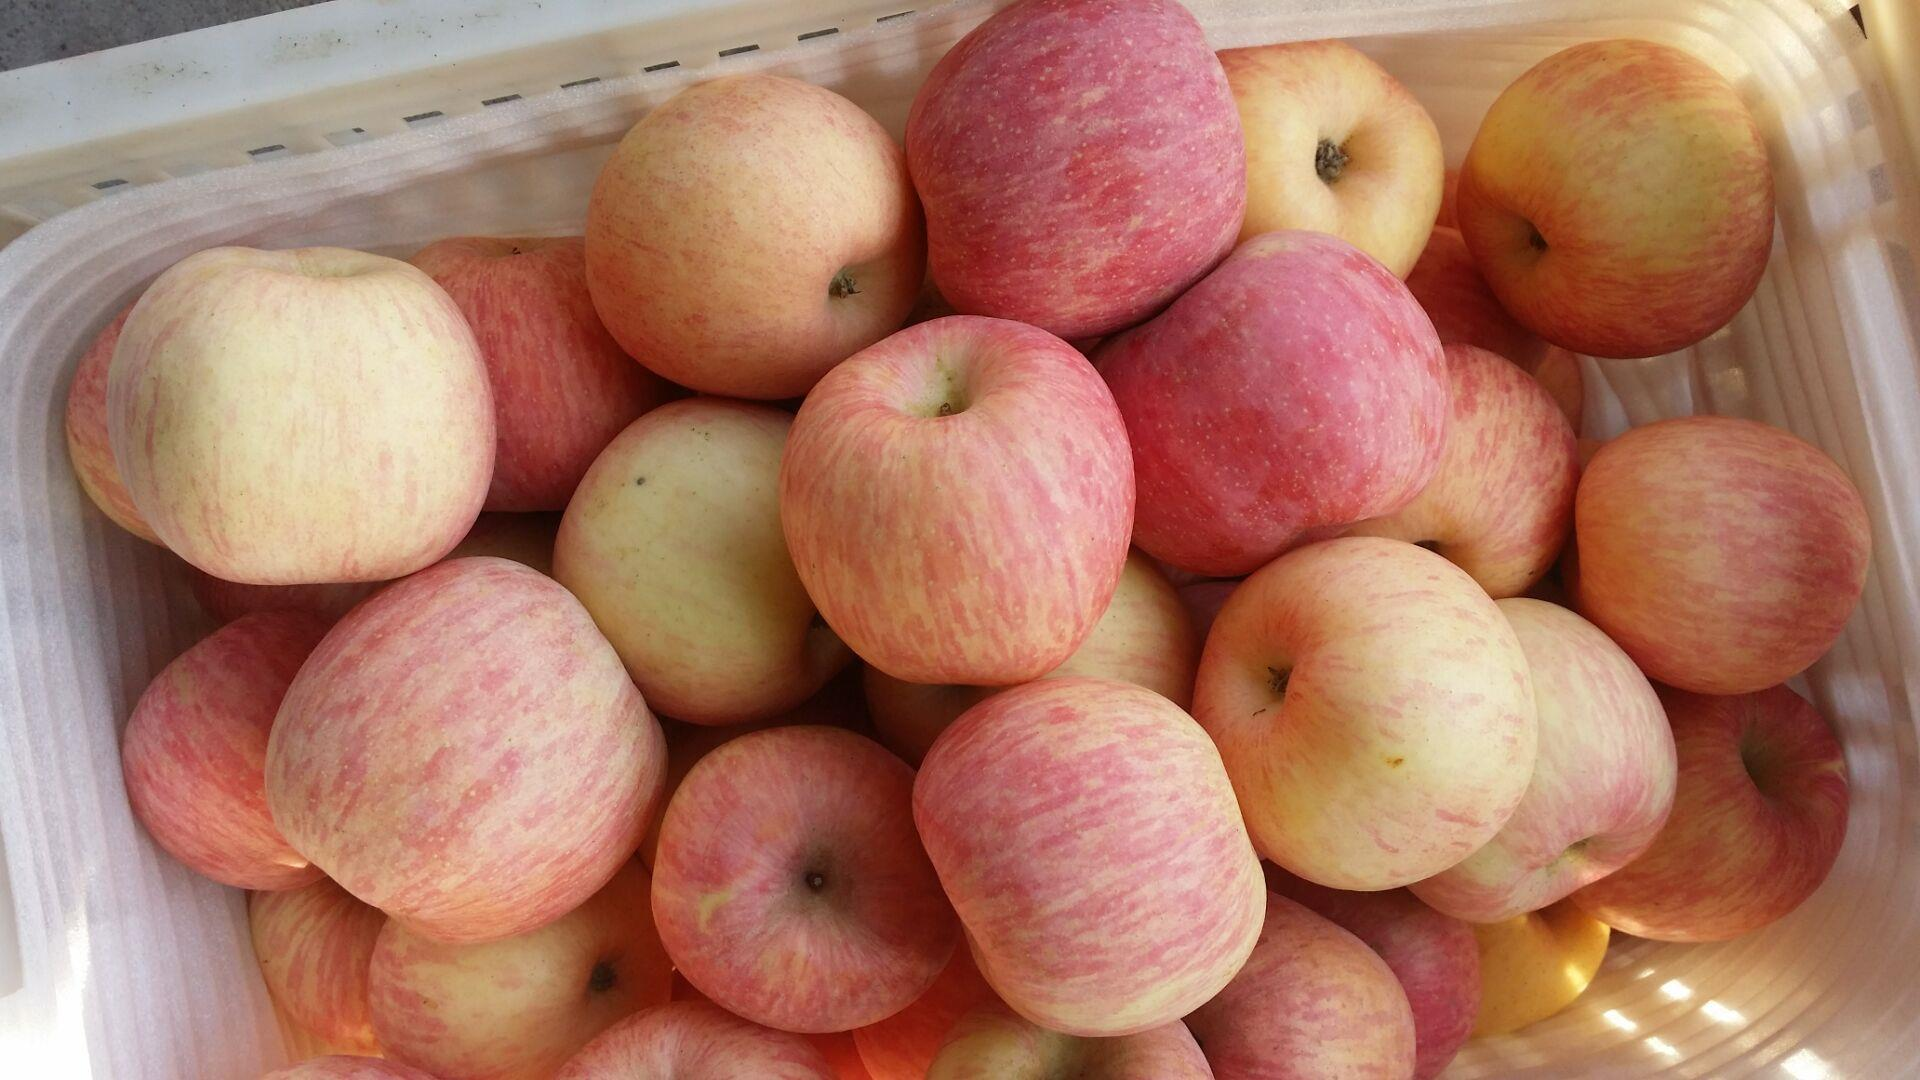apple: (262, 553, 663, 944), (86, 241, 498, 603), (1189, 530, 1542, 903), (911, 680, 1270, 1044), (785, 314, 1143, 678), (1098, 227, 1453, 574), (585, 63, 927, 397), (906, 1, 1247, 334), (1462, 36, 1778, 363), (650, 728, 967, 1040), (1567, 418, 1876, 703), (411, 229, 669, 518), (1215, 42, 1447, 287)
